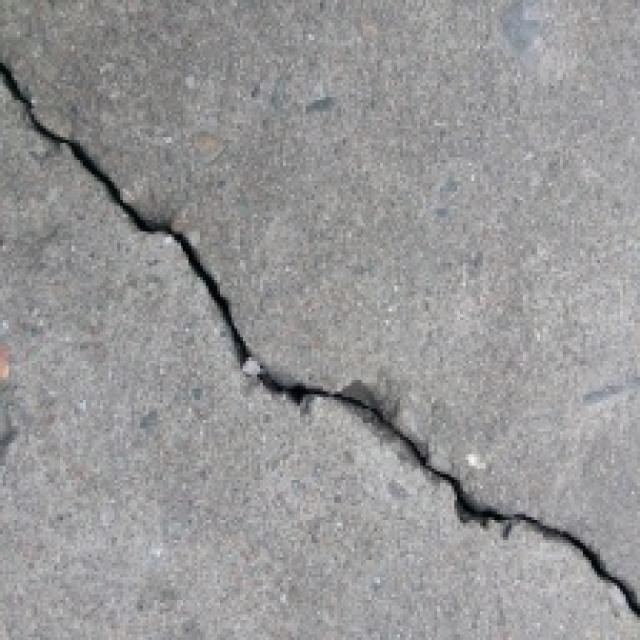crack: (0, 34, 640, 598)
